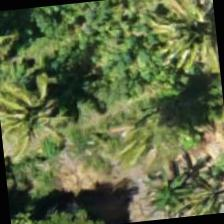Kelapa_Sawit: (109, 87, 208, 186), (0, 71, 81, 169), (119, 141, 217, 222), (145, 0, 220, 80), (164, 147, 223, 218)
